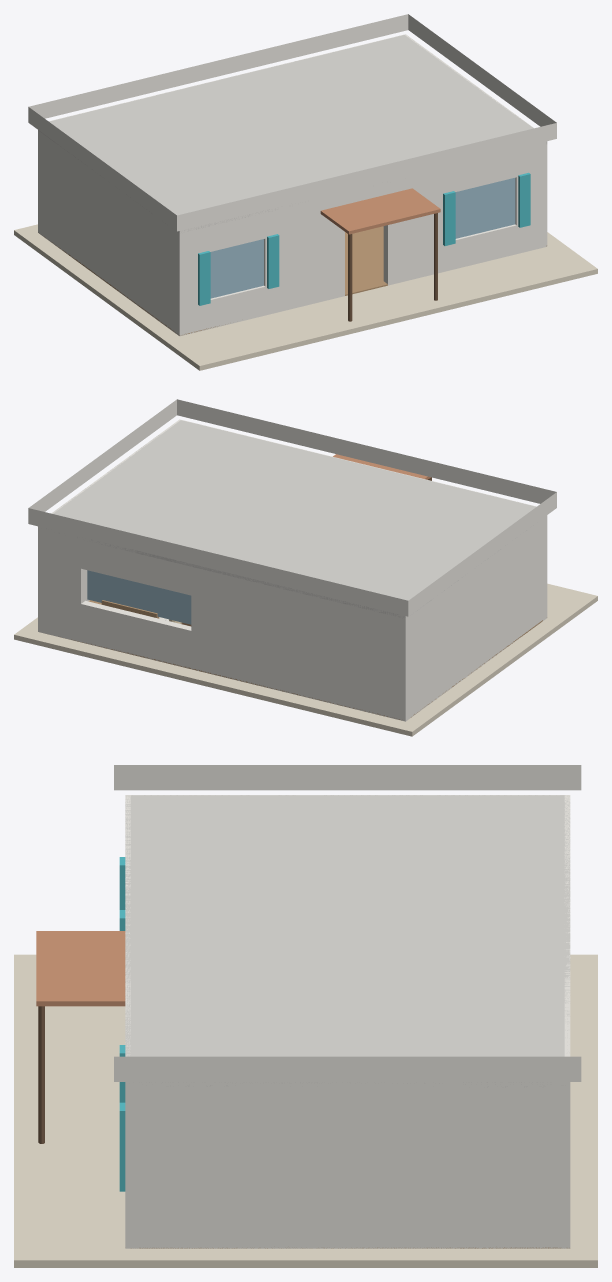
Rendered from E1-7_lar.fbx.
The picture shows the model from 3 angles, top to bottom: view 1: azimuth 30°, elevation 25°; view 2: azimuth 150°, elevation 25°; view 3: azimuth 270°, elevation 25°; orthographic projection. The views are drawn at different scales.
Parts seen in each view (by area): view 1: E1-7_lar; view 2: E1-7_lar; view 3: E1-7_lar.
Part boxes in pixels (box(x1,y1,x2,y2)): E1-7_lar: box(14, 14, 597, 370); E1-7_lar: box(14, 399, 597, 736); E1-7_lar: box(14, 765, 597, 1267).
Size of the model in its own units: 13 by 4.05 by 10.5.
